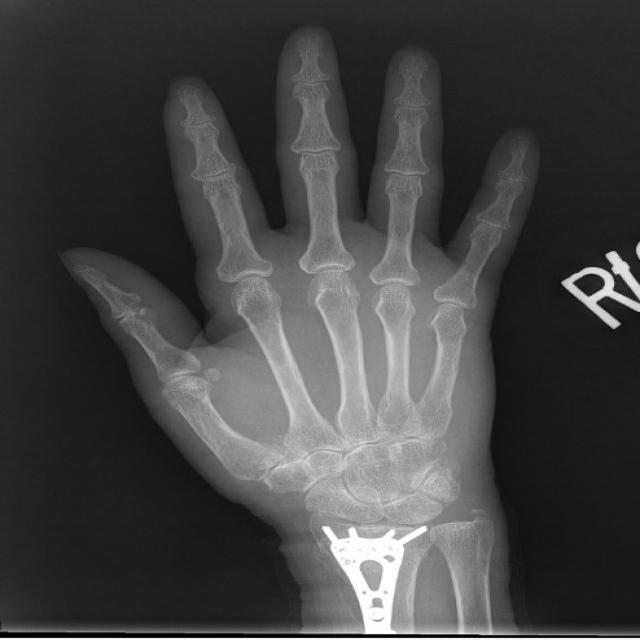x-ray: (310, 514, 450, 639)
